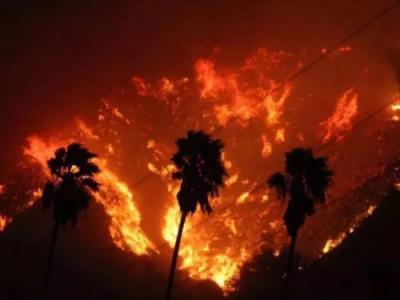fire: (102, 176, 152, 254)
